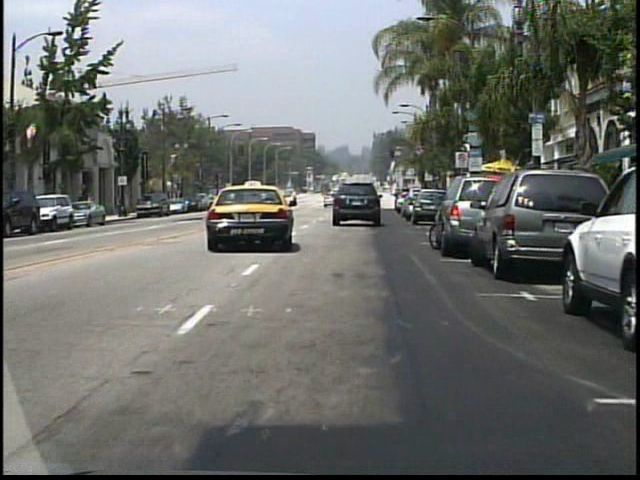person: (78, 188, 91, 219), (86, 191, 97, 218), (292, 189, 299, 202)
